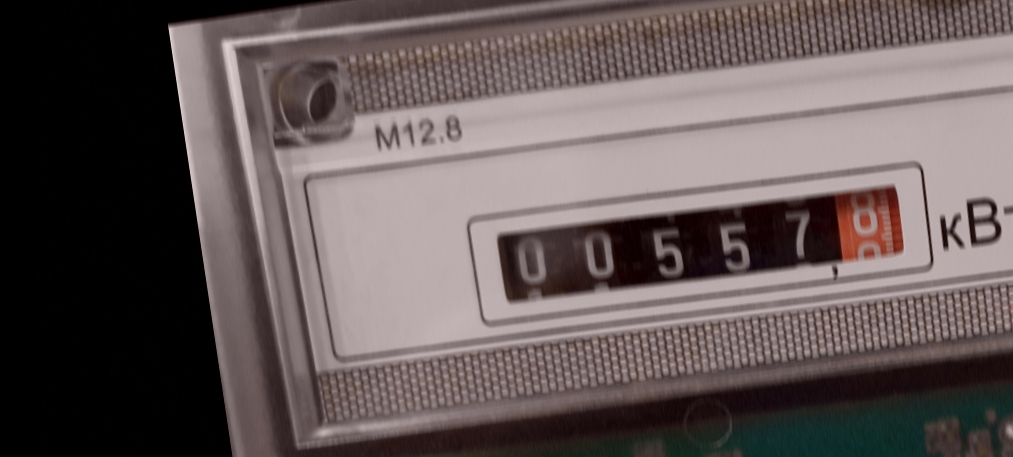0: (509, 229, 551, 289), (577, 224, 618, 281)
5: (711, 213, 757, 276), (645, 221, 688, 282)
7: (776, 203, 817, 263)
8: (845, 186, 880, 239)
screen: (459, 142, 941, 341)
